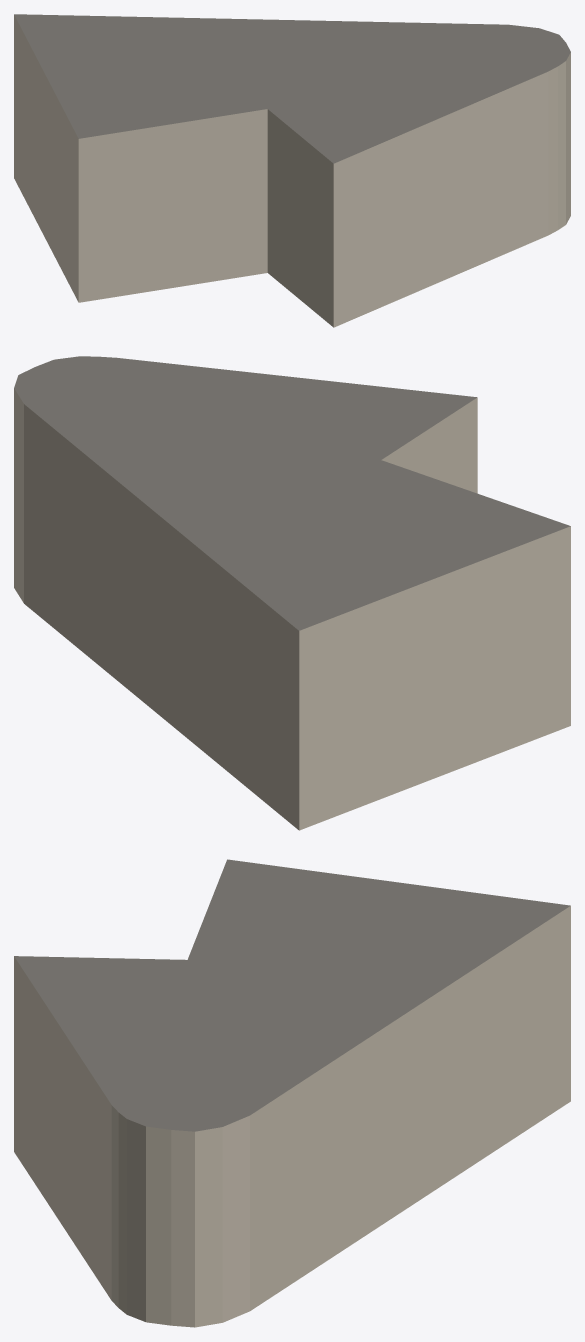
3 views of the same model, one above another, from view 1: azimuth 30°, elevation 25°; view 2: azimuth 150°, elevation 25°; view 3: azimuth 270°, elevation 25° (orthographic). The views are drawn at different scales.
Visible parts, largest first — view 1: HP-w859079004; view 2: HP-w859079004; view 3: HP-w859079004.
Part boxes in pixels (x1,y1,x2,y2): HP-w859079004: [14, 14, 570, 327]; HP-w859079004: [14, 356, 570, 830]; HP-w859079004: [14, 859, 570, 1327].
Bounding box in the file's own units: 53.67 × 18 × 46.4.
